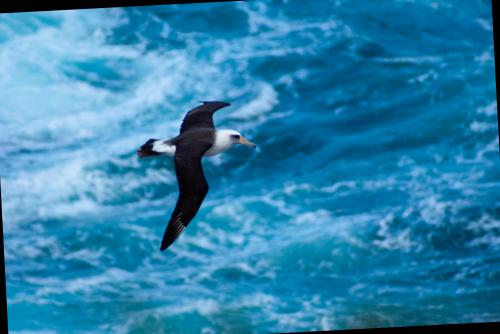bird: (130, 92, 264, 256)
